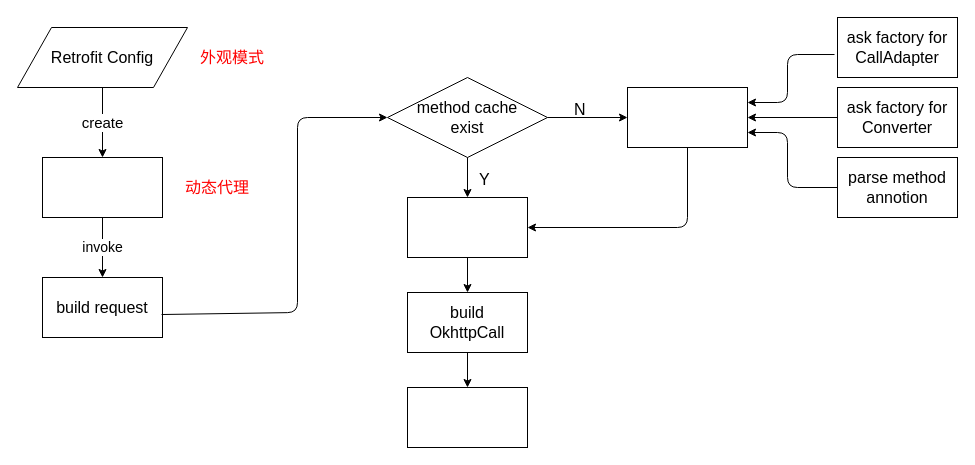
Image size: 975x465. Some labels were removed from this diagram. The centre of each missing label's shape, as x and y in pixels:
"CallAdapter adapt" belongs at pixel 467 417.
"create ServiceMethod" belongs at pixel 687 117.
"Service Proxy" belongs at pixel 102 187.
"ServiceMethod" belongs at pixel 467 227.
